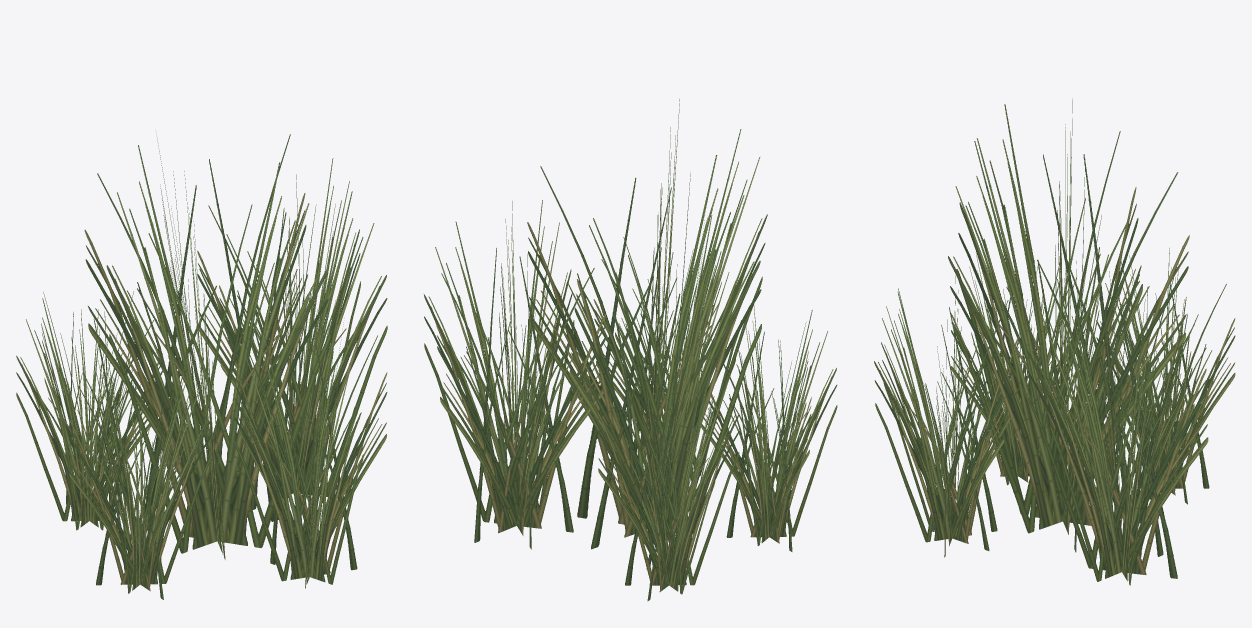
File: SM_Grass_Clump.glb
3 views of the same model, side by side, from view 1: azimuth 30°, elevation 25°; view 2: azimuth 150°, elevation 25°; view 3: azimuth 270°, elevation 25° (orthographic). The views are drawn at different scales.
Visible parts, largest first — view 1: SM_Grass_Clump; view 2: SM_Grass_Clump; view 3: SM_Grass_Clump.
Part boxes in pixels (x1,y1,x2,y2): SM_Grass_Clump: [16, 134, 387, 599]; SM_Grass_Clump: [424, 99, 837, 601]; SM_Grass_Clump: [874, 98, 1235, 585].
Size of the model in its own units: 1.05 by 1.37 by 1.
1 material, 1 textured.
